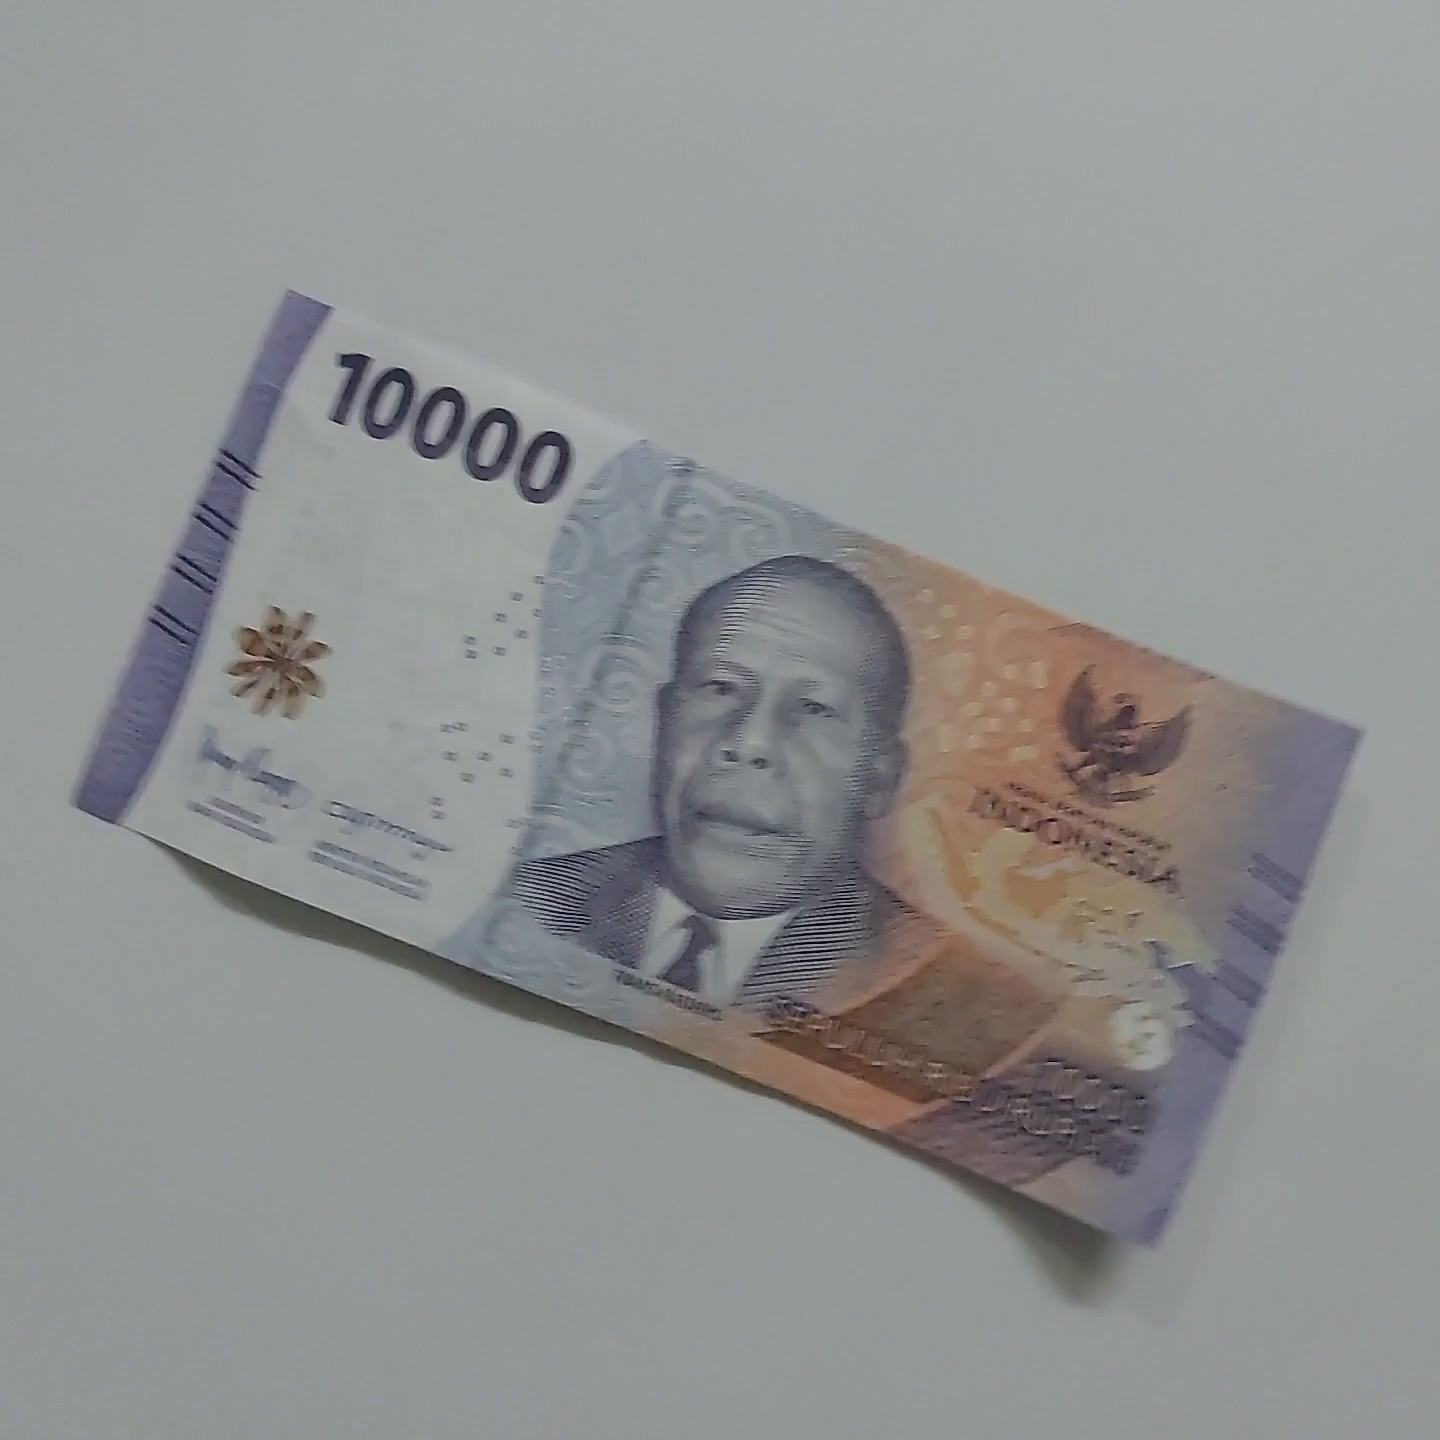10k: (274, 252, 1440, 865)
